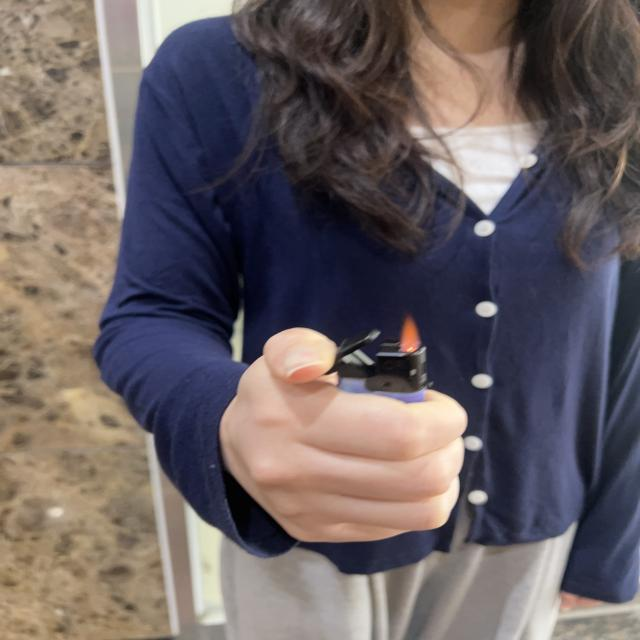fire: (398, 315, 424, 353)
